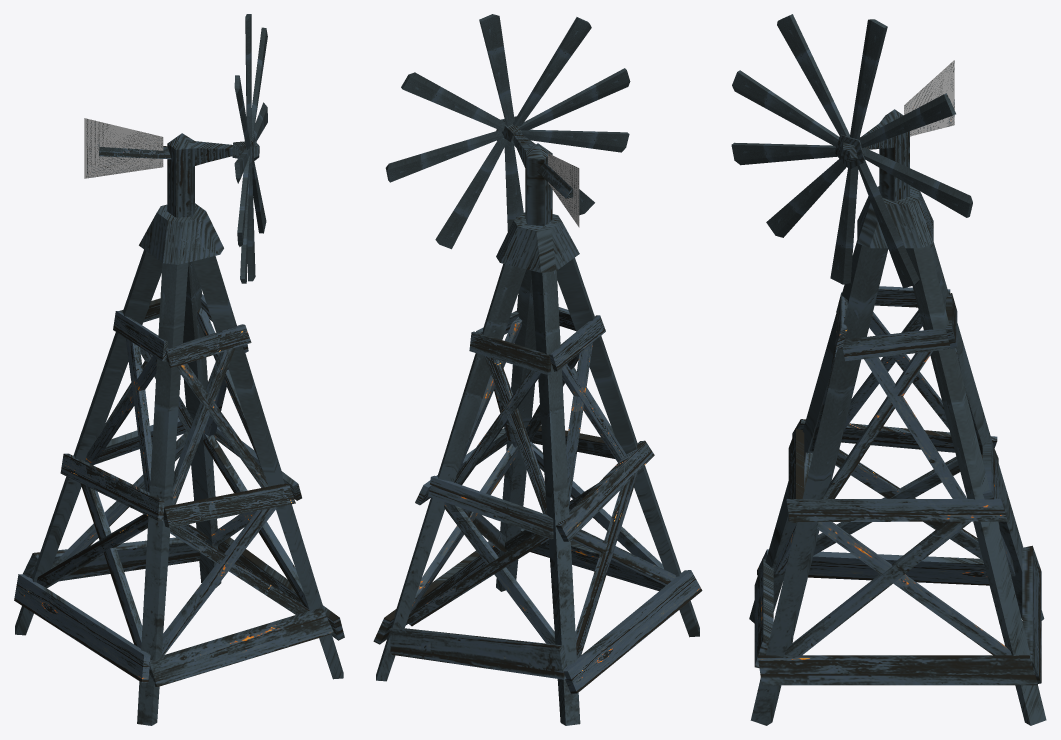
File: windmill.fbx
3 views of the same model, side by side, from view 1: azimuth 30°, elevation 25°; view 2: azimuth 150°, elevation 25°; view 3: azimuth 270°, elevation 25° (orthographic). The views are drawn at different scales.
Visible parts, largest first — view 1: windmill; view 2: windmill; view 3: windmill.
Boxes of the visible parts, box(x1,y1,x2,y2) form: windmill: box(14, 14, 344, 725); windmill: box(373, 14, 702, 725); windmill: box(731, 14, 1046, 725).
Bounding box in the file's own units: 0.0492 × 0.1318 × 0.0552.
